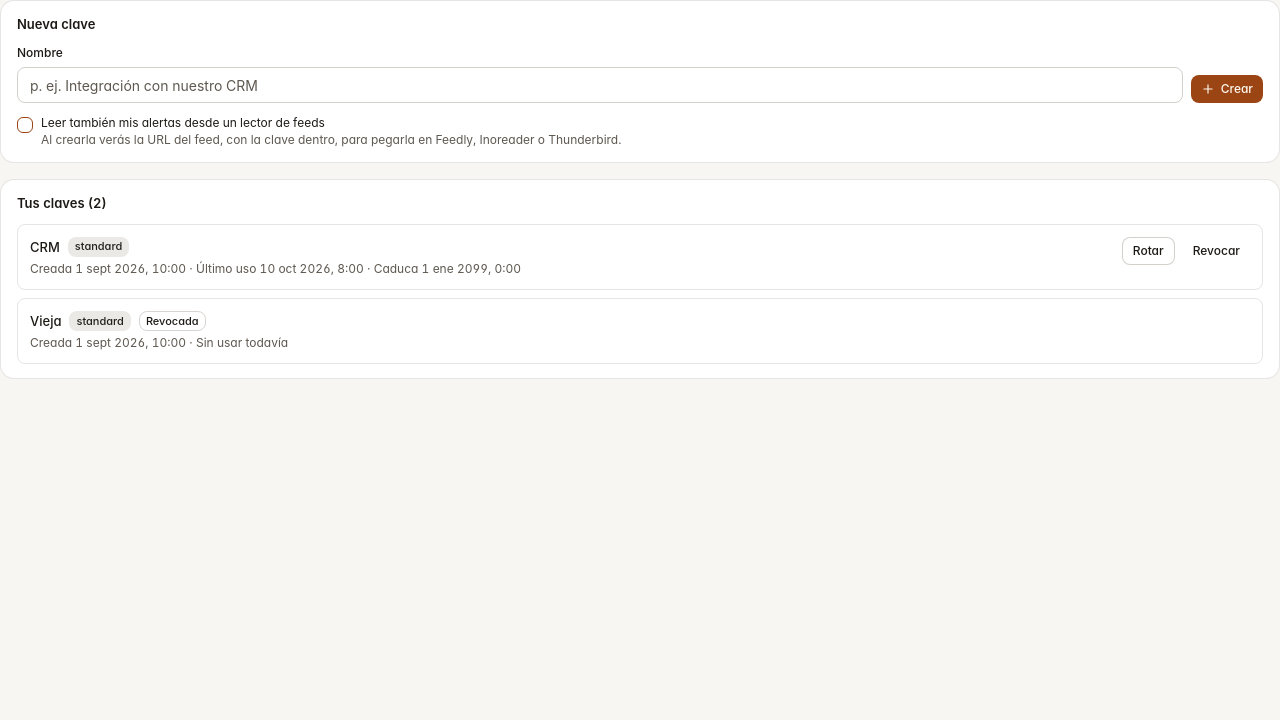
Test: Claves: rotar › entrega la clave nueva una sola vez y dice hasta cuándo vale la anterior
This screenshot has width=1280, height=720.
Click the button "Rotar" at x=1148, y=251, box [1122, 237, 1175, 265]
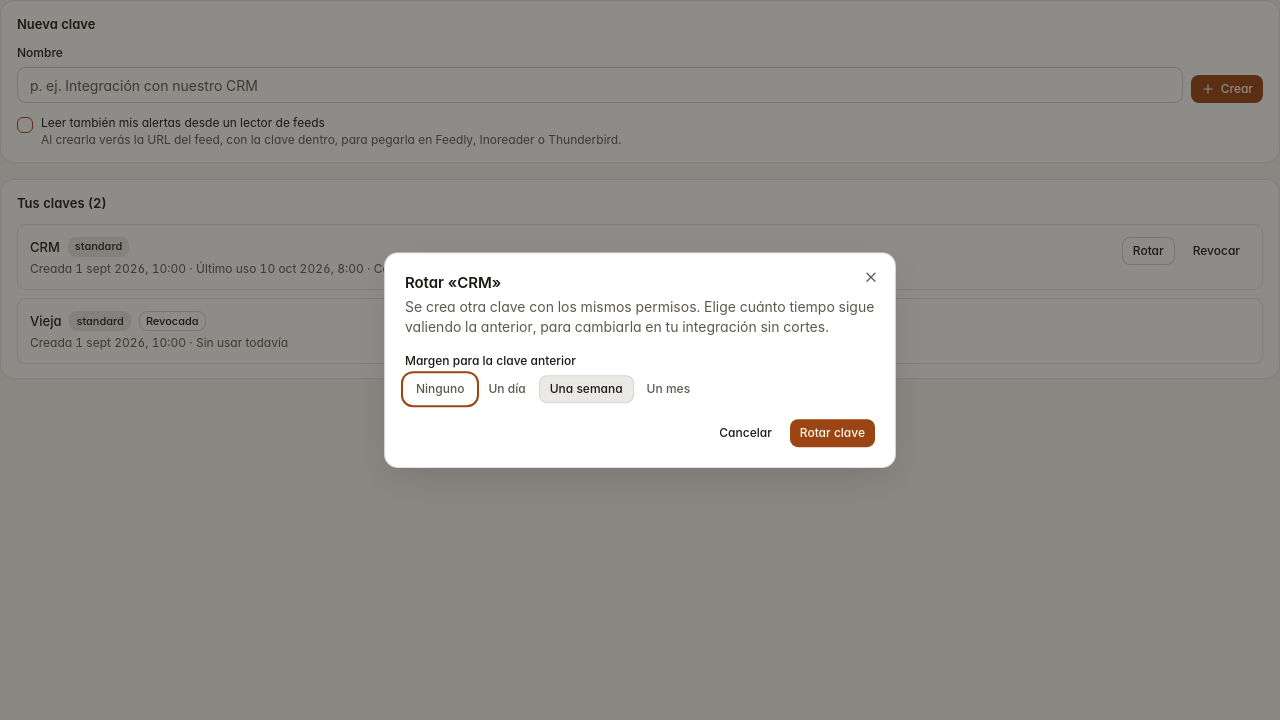
Click the button "Un día" at x=507, y=389, box [478, 375, 537, 403]
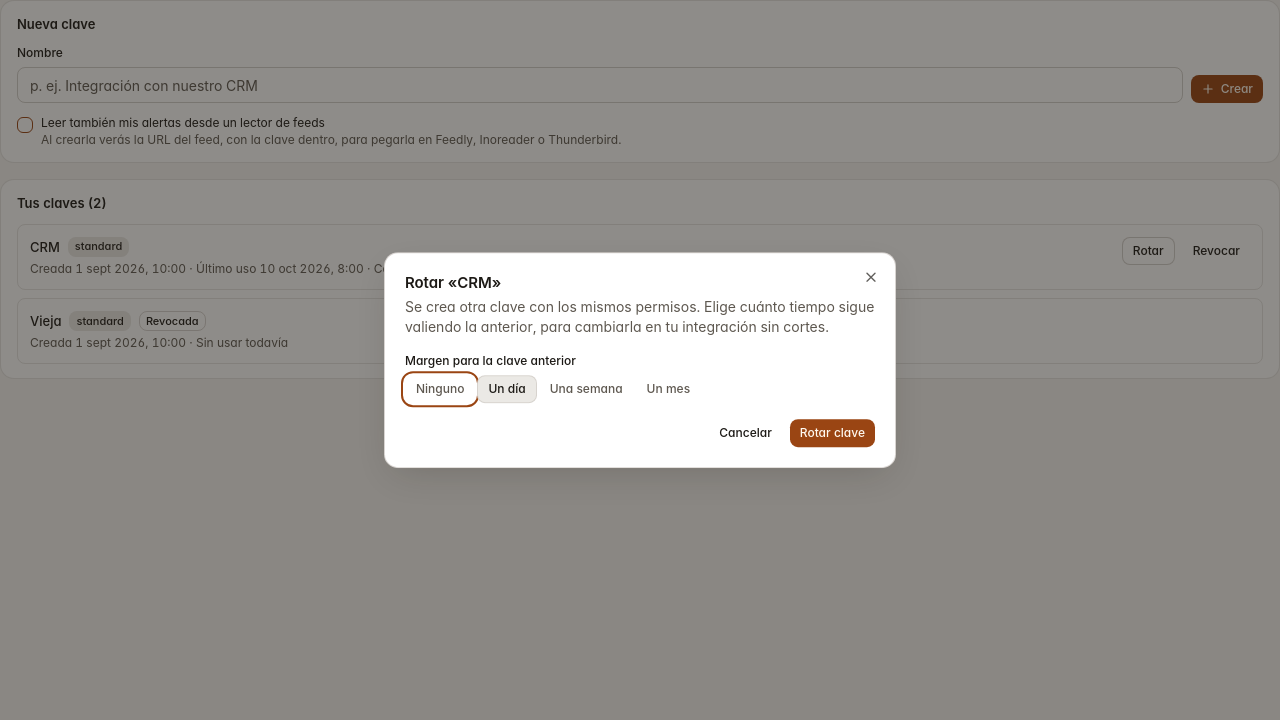
Click the button "Rotar clave" at x=832, y=433, box [790, 419, 875, 447]
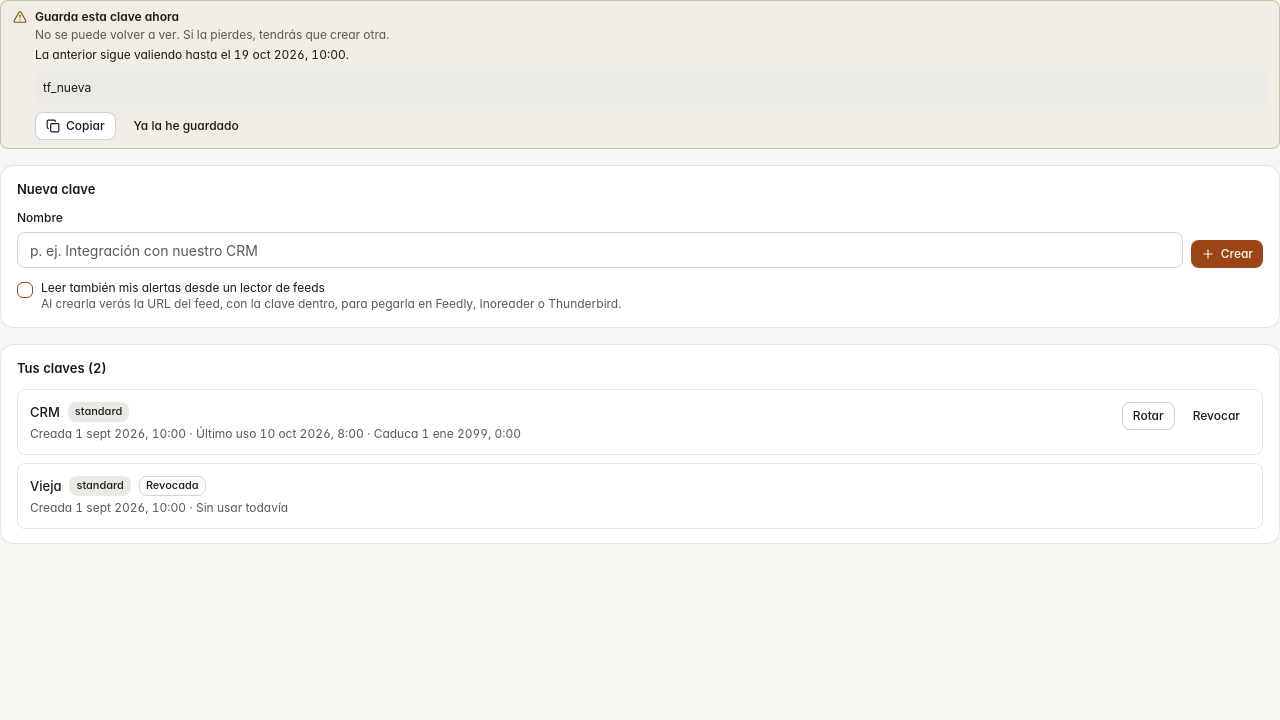
Check: the text "tf_nueva" is shown, box [35, 72, 1267, 104]
Check: the text "La anterior sigue valiendo hasta el 19 oct 2026, 10:00." is shown, box [35, 47, 349, 62]
Click the button "Ya la he guardado" at x=186, y=126, box [124, 112, 249, 140]
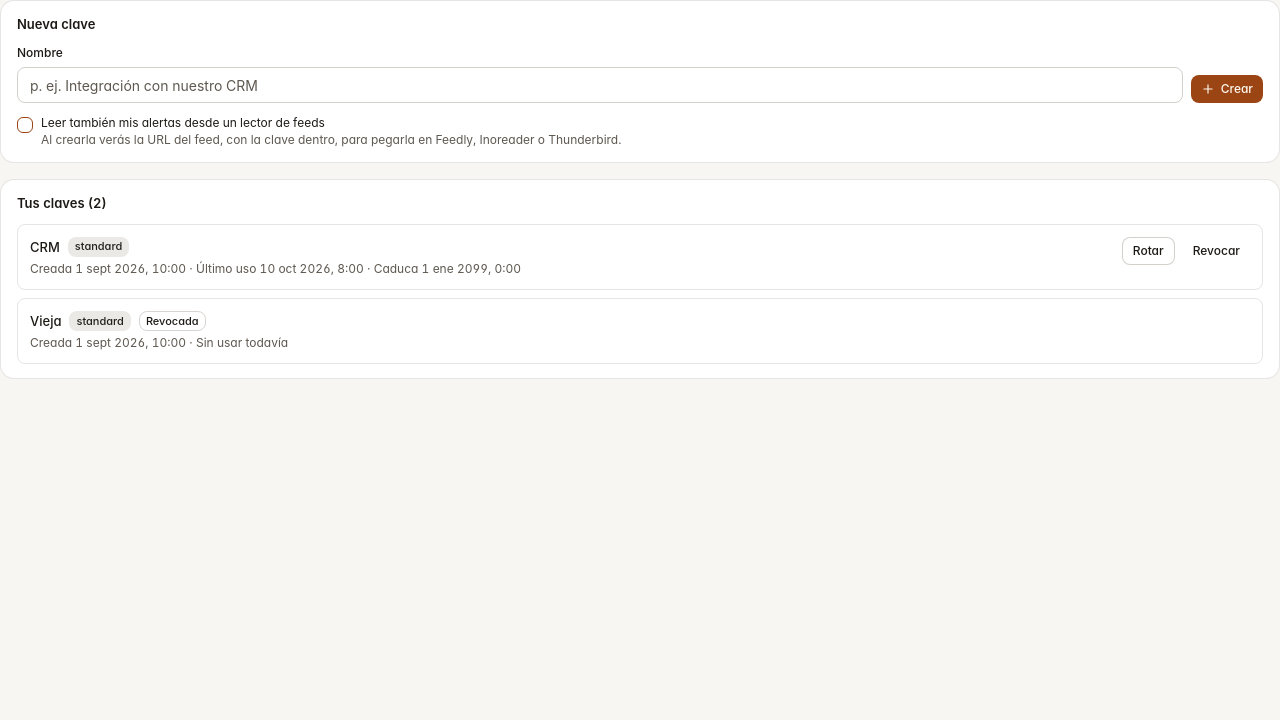
Check: the text "tf_nueva" is gone
